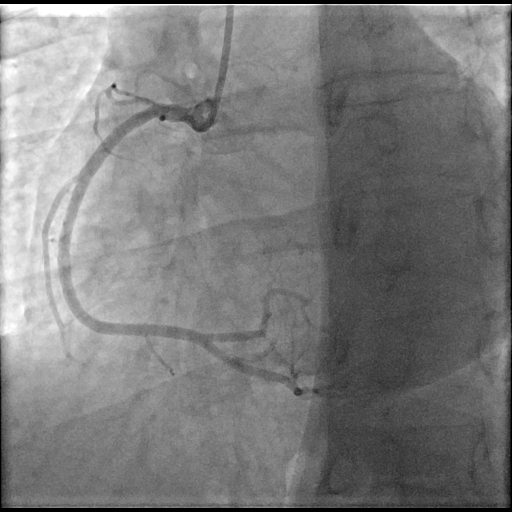RCA: (59, 102, 290, 381)
catherter: (211, 4, 233, 110)
